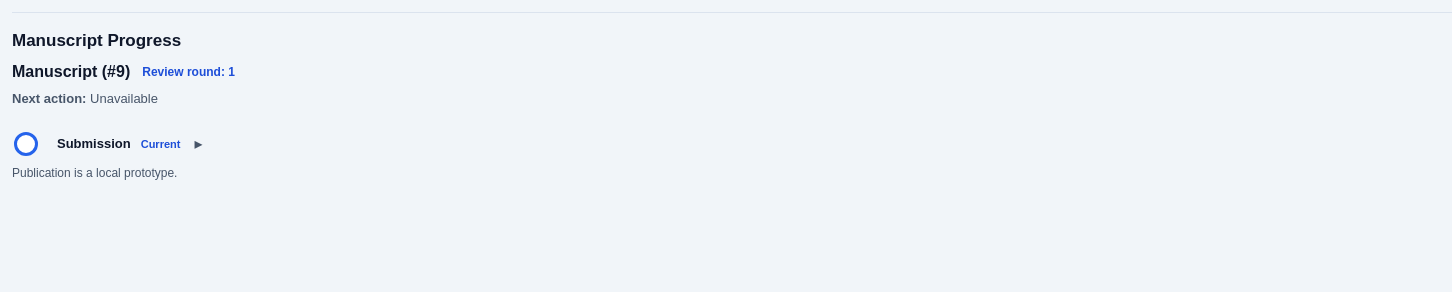
Test: explains that stage browsing is unavailable when the role has no workspace handler
The image size is (1452, 292).
Click the text "Submission": (94, 144) [57,136,131,151]
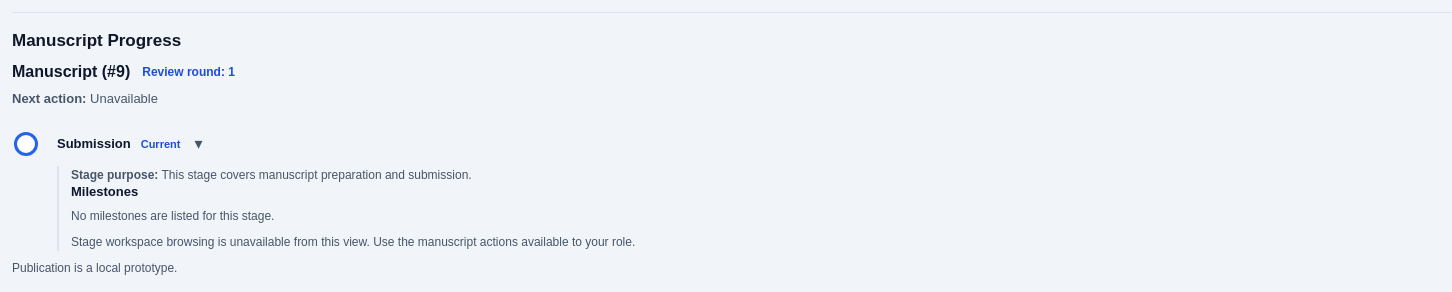
expect the text "Stage workspace browsing is unavailable from this view" is shown: met, box [71,235,635,249]
